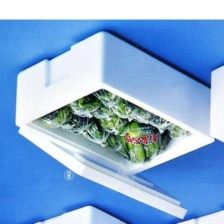foam_box: (10, 28, 218, 223), (28, 200, 135, 224), (205, 60, 223, 148)
